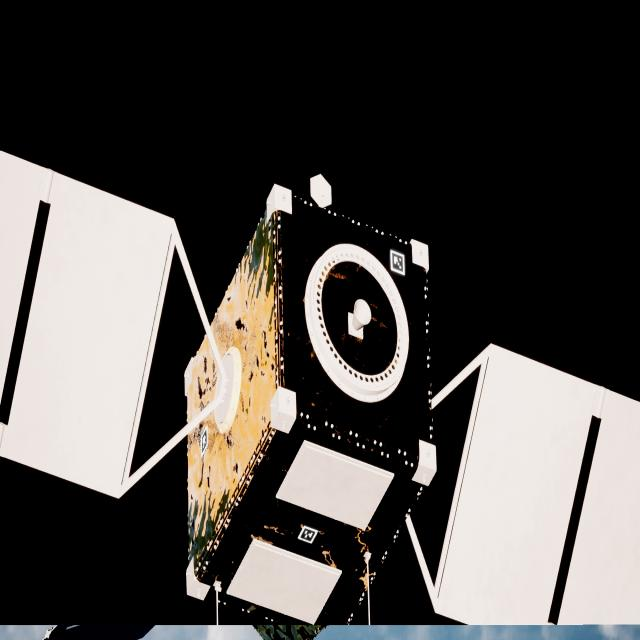satellite: (0, 151, 640, 628)
